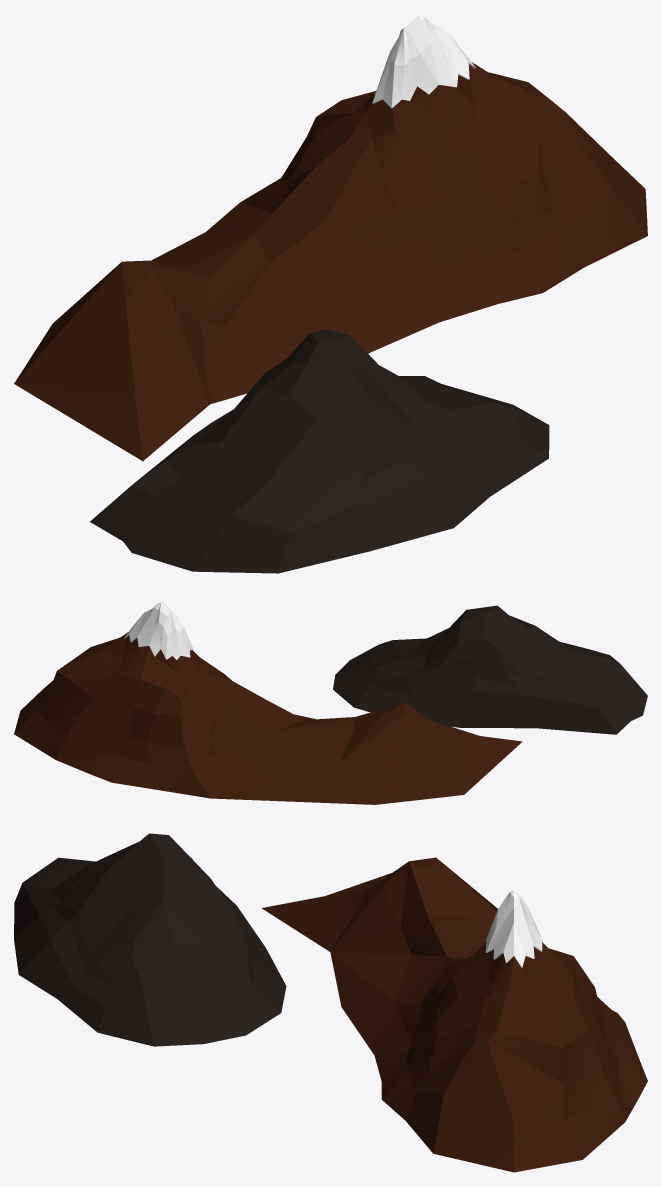
File: Mountains.FBX
3 renders of one model, top to bottom at view 1: azimuth 30°, elevation 25°; view 2: azimuth 150°, elevation 25°; view 3: azimuth 270°, elevation 25°, orthographic. The views are drawn at different scales.
Visible parts, largest first — view 1: Mountain, Box001; view 2: Mountain, Box001; view 3: Mountain, Box001.
Boxes of the visible parts, left/top/right/bottom form: Mountain: left=14, top=14, right=647, bottom=461; Box001: left=90, top=329, right=549, bottom=573; Mountain: left=14, top=602, right=522, bottom=804; Box001: left=333, top=605, right=647, bottom=734; Mountain: left=261, top=857, right=647, bottom=1172; Box001: left=14, top=833, right=286, bottom=1046.
Size of the model in its own units: 32629 by 9508 by 28506.
